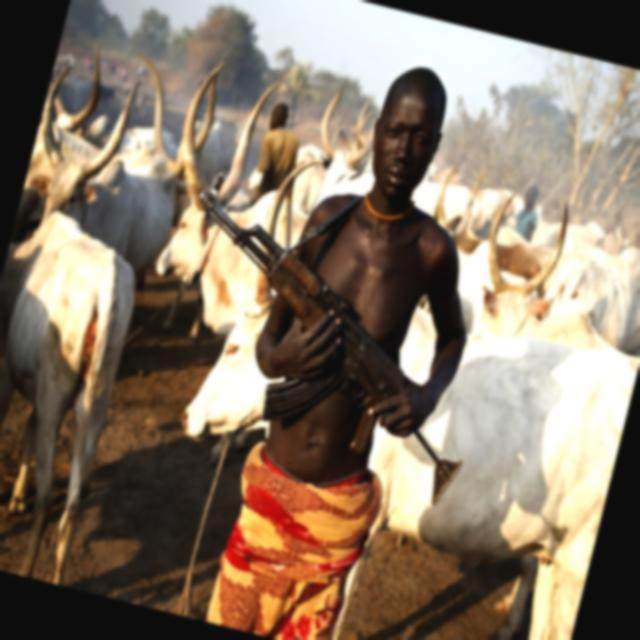ak: (138, 164, 514, 514)
